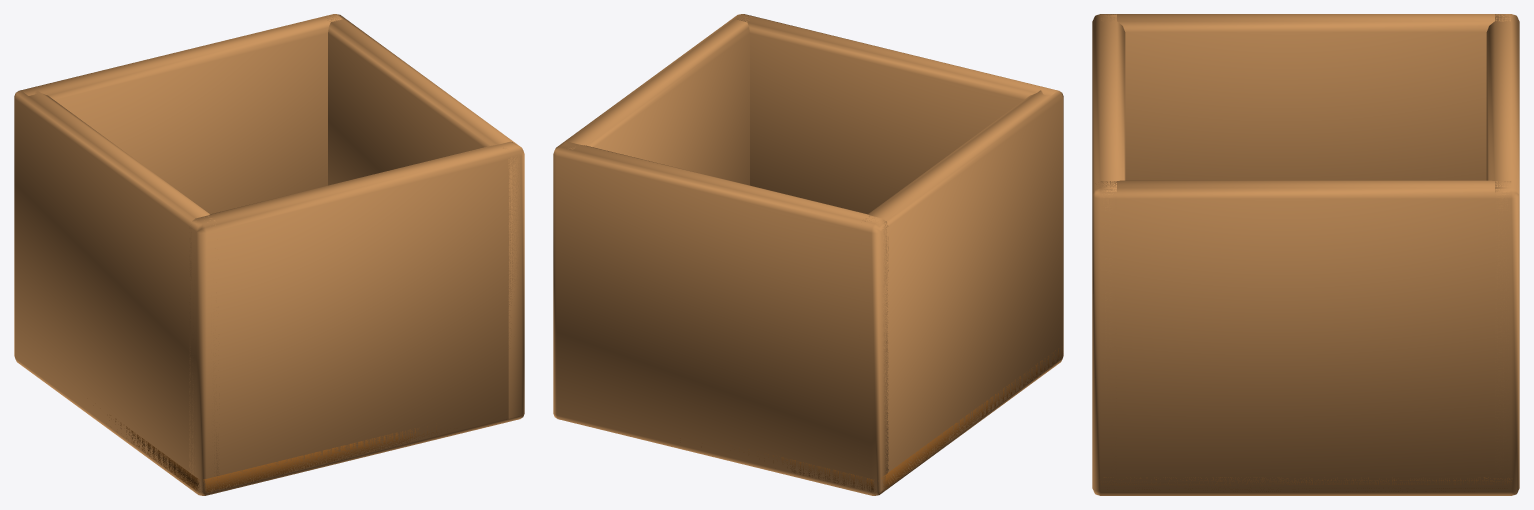
Rendered from v_crate_open.glb.
The picture shows the model from 3 angles, left to right: view 1: azimuth 30°, elevation 25°; view 2: azimuth 150°, elevation 25°; view 3: azimuth 270°, elevation 25°; orthographic projection. The views are drawn at different scales.
Parts seen in each view (by area): view 1: GenCrate; view 2: GenCrate; view 3: GenCrate.
Part boxes in pixels (bbox=[...]): GenCrate: bbox=[14, 14, 524, 495]; GenCrate: bbox=[553, 14, 1063, 495]; GenCrate: bbox=[1092, 14, 1519, 495].
Bounding box in the file's own units: 0.78 × 0.62 × 0.78.
